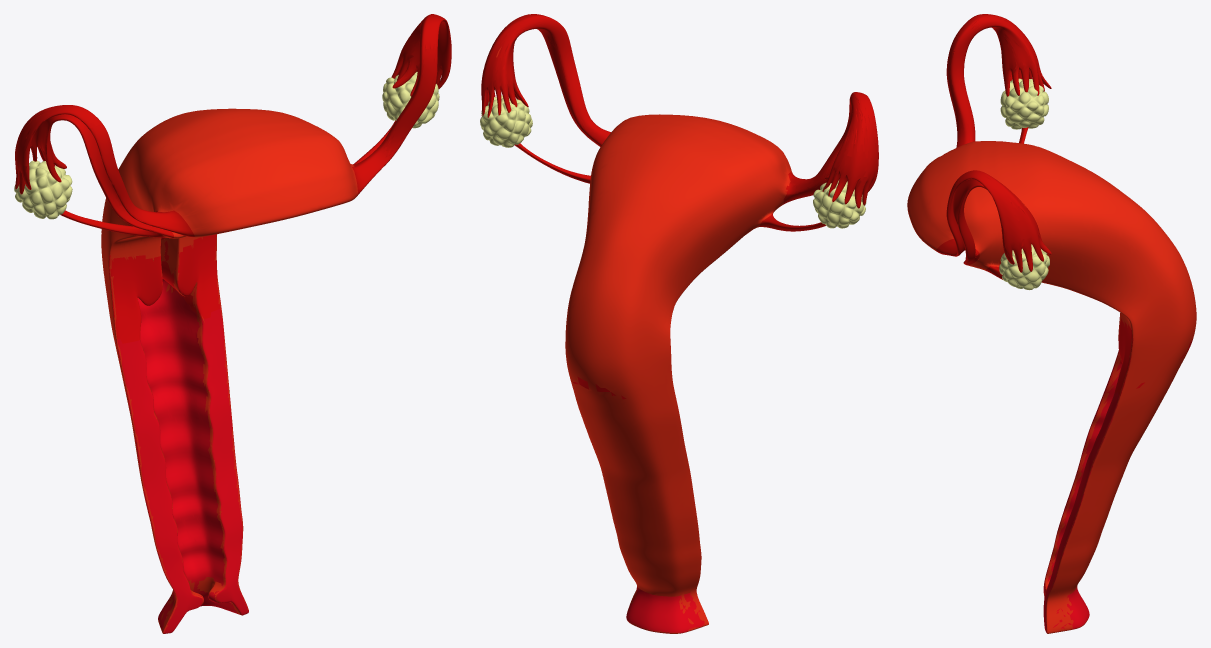
File: Female_Repro.glb
3 views of the same model, side by side, from view 1: azimuth 30°, elevation 25°; view 2: azimuth 150°, elevation 25°; view 3: azimuth 270°, elevation 25° (orthographic). The views are drawn at different scales.
Visible parts, largest first — view 1: Uterus, Vagina, Fallopian Tube, Cervix, Ovary; view 2: Uterus, Fallopian Tube, Ovary, Vagina; view 3: Uterus, Fallopian Tube, Vagina, Ovary, Cervix.
Part boxes in pixels (box(x1,y1,x2,y2)): Uterus: box(101, 108, 357, 633); Vagina: box(116, 279, 248, 633); Fallopian Tube: box(15, 14, 451, 238); Cervix: box(109, 234, 221, 343); Ovary: box(14, 72, 439, 219); Uterus: box(496, 47, 792, 633); Fallopian Tube: box(481, 14, 878, 231); Ovary: box(480, 95, 866, 228); Vagina: box(626, 410, 704, 633); Uterus: box(907, 141, 1196, 633); Fallopian Tube: box(936, 14, 1051, 279); Vagina: box(1043, 363, 1143, 632); Ovary: box(999, 78, 1049, 290); Cervix: box(1113, 313, 1192, 396).
Size of the model in its own units: 4.4 by 5.76 by 2.88.
